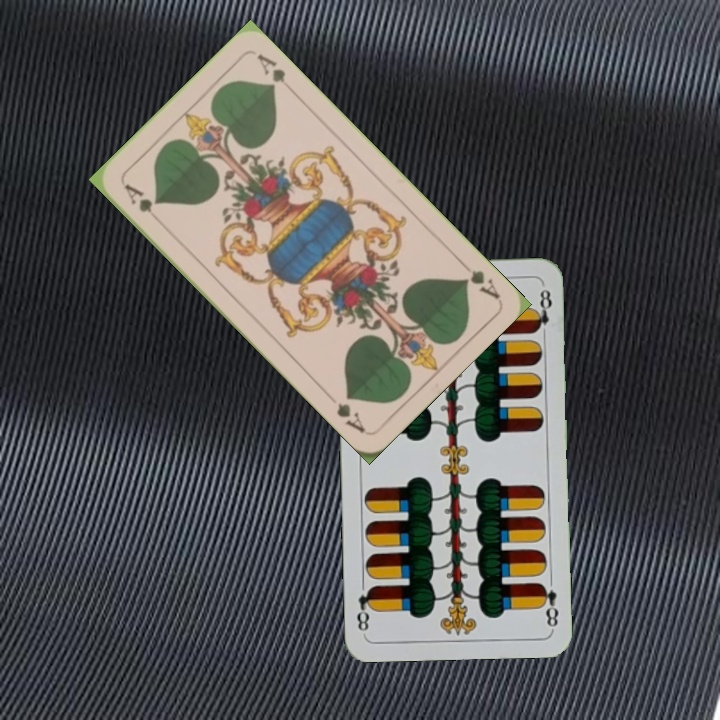E8: (536, 579, 561, 631)
GA: (454, 255, 503, 301), (120, 179, 163, 226)
